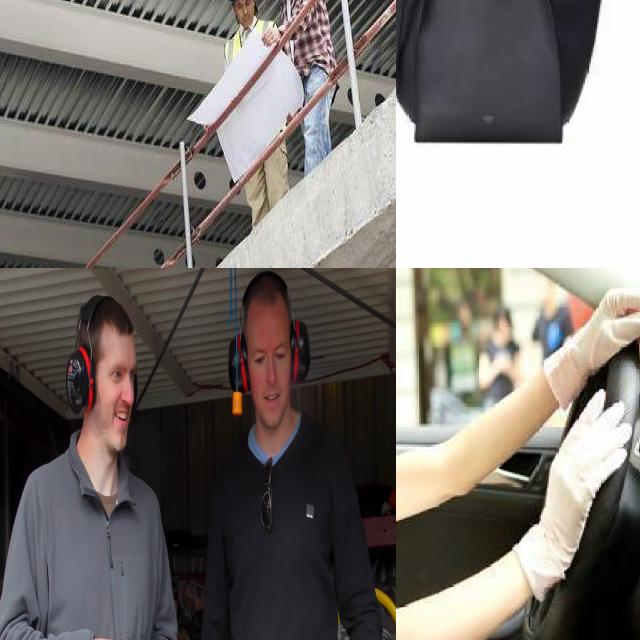Ear-protection: (65, 347, 95, 422), (230, 336, 252, 403), (289, 321, 310, 382)
face_nomask: (235, 0, 255, 25)
hand_glove: (544, 386, 634, 563), (564, 287, 640, 376)
hand_noglove: (258, 24, 283, 48)
person: (396, 268, 640, 640), (183, 268, 365, 640), (13, 268, 174, 640), (249, 0, 345, 181), (217, 0, 293, 226)
